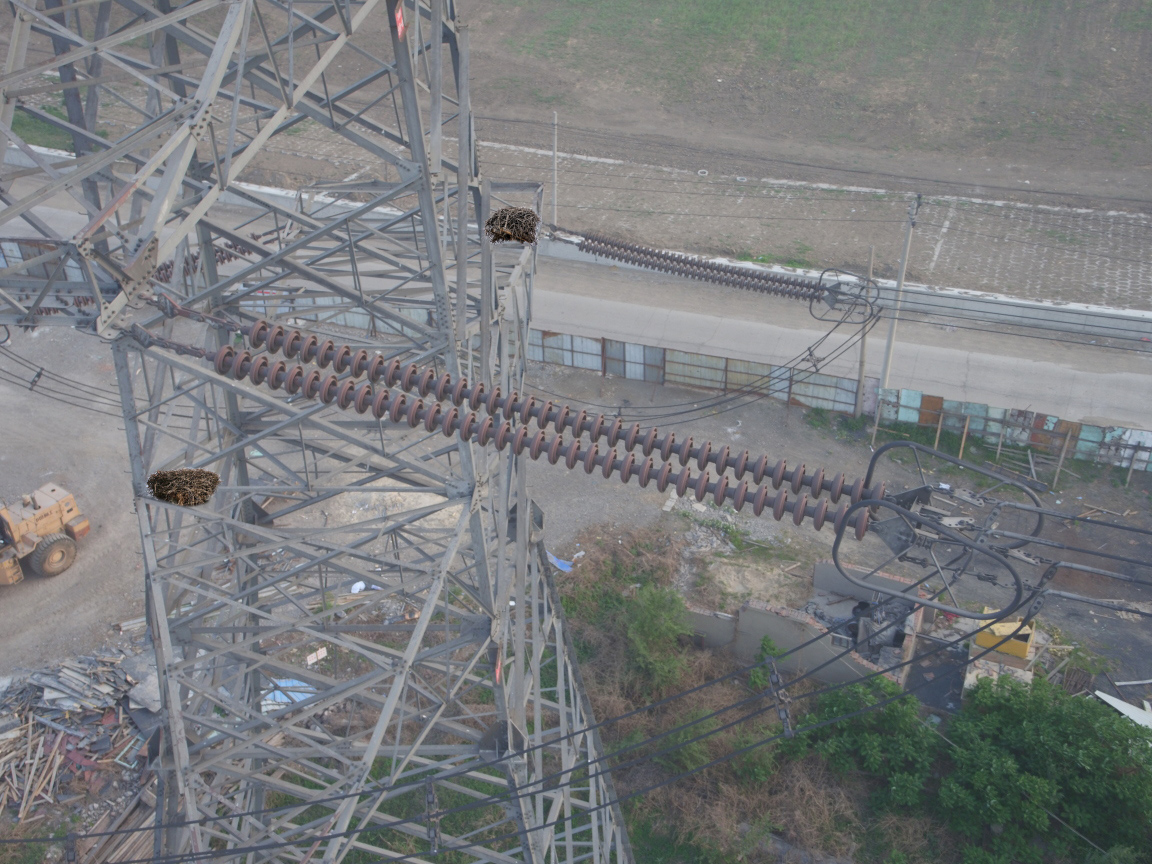nest: (146, 465, 224, 510), (479, 206, 539, 244)
